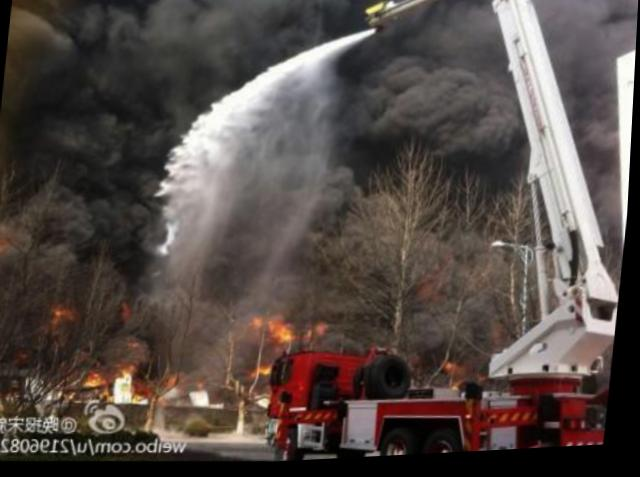fire: (274, 319, 305, 345), (310, 320, 335, 343), (90, 367, 117, 386), (261, 363, 281, 378), (0, 385, 4, 398)
